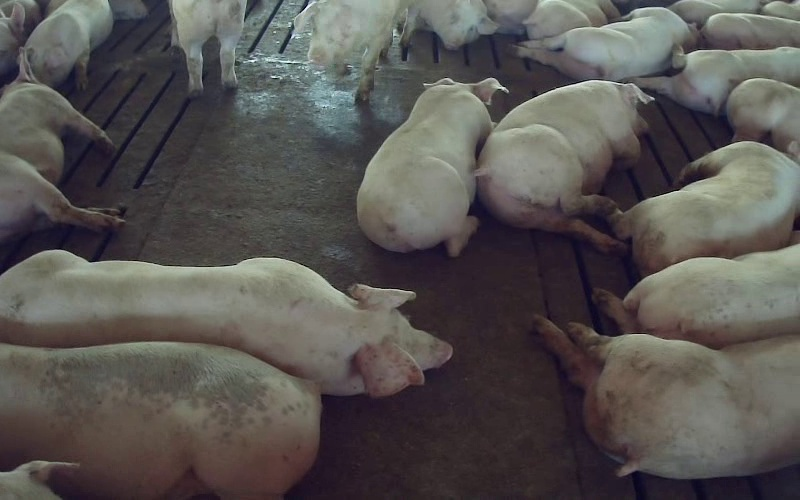pig: (535, 317, 799, 478), (478, 80, 652, 251), (358, 78, 505, 256), (610, 142, 799, 275), (0, 49, 123, 242), (593, 244, 799, 348), (513, 7, 697, 80), (628, 46, 799, 115), (294, 0, 408, 101), (170, 0, 246, 96), (726, 78, 799, 162), (400, 0, 497, 49), (523, 0, 620, 39), (700, 13, 799, 49)
